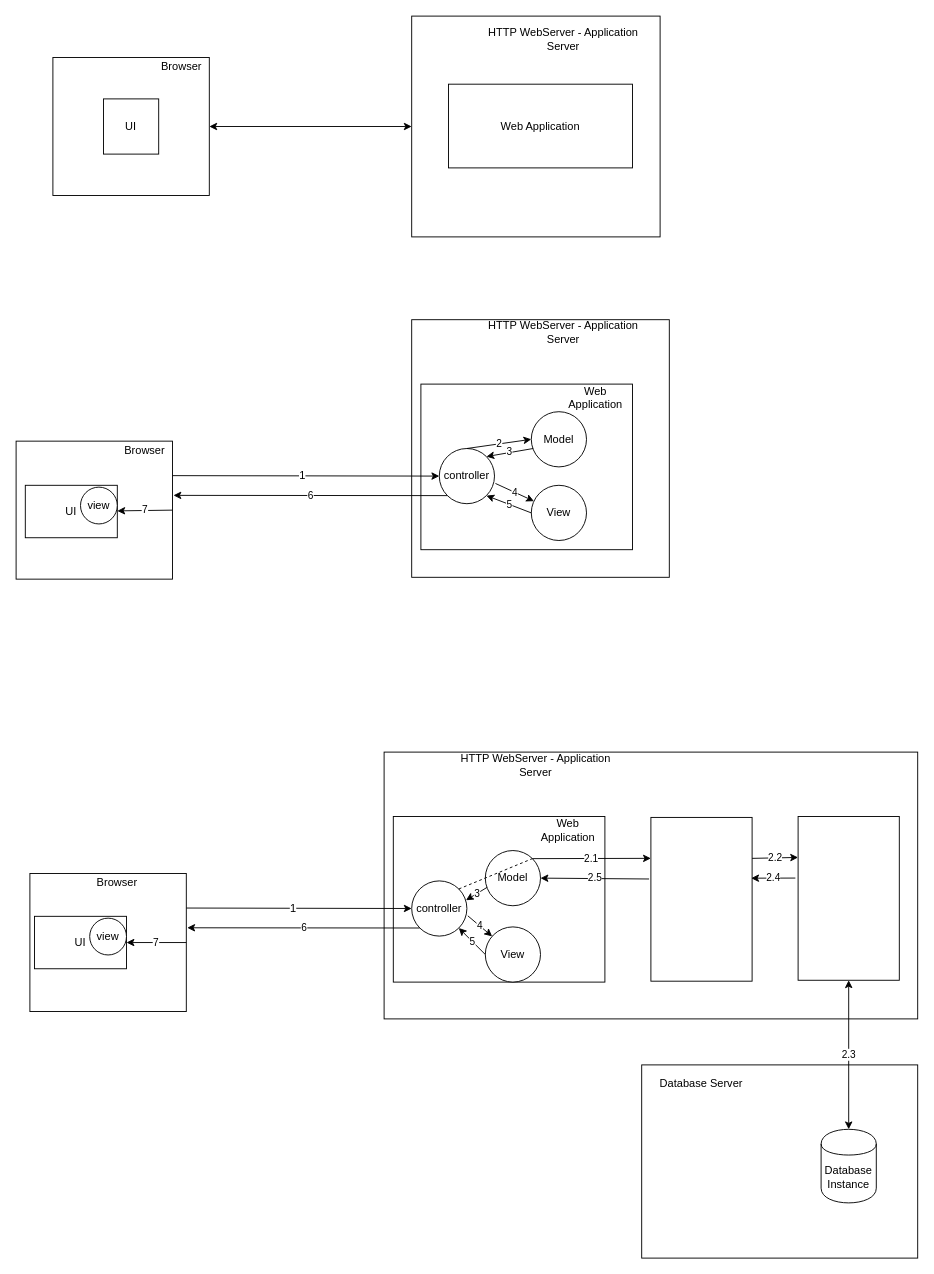
The diagram is 934 pixels wide and 1274 high, and some of its shapes have lost their labels. Each missing label, with the box of its shape:
App Logic: (650, 816, 752, 981)
Data Access: (797, 816, 899, 980)
